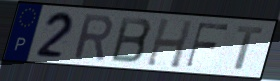2: (31, 9, 78, 62)
B: (108, 15, 154, 65)
F: (183, 22, 232, 69)
H: (144, 16, 195, 70)
R: (71, 13, 114, 63)
T: (233, 26, 266, 72)
